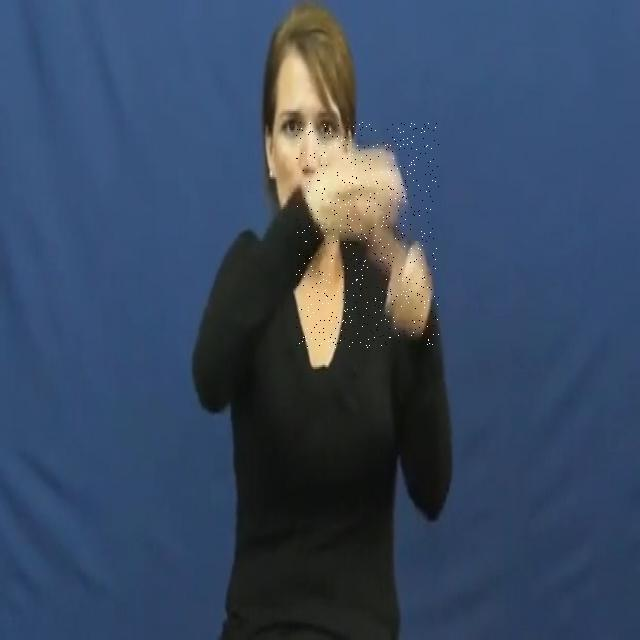lactose: (296, 122, 439, 348)
